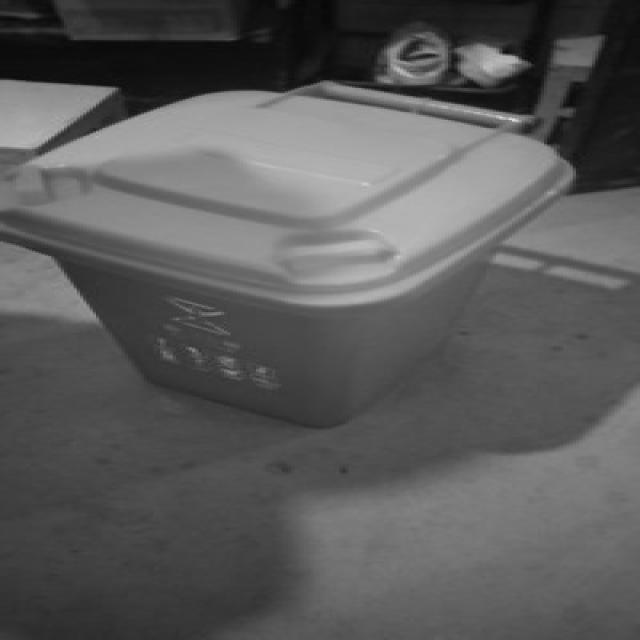ash bin: (0, 78, 570, 426)
